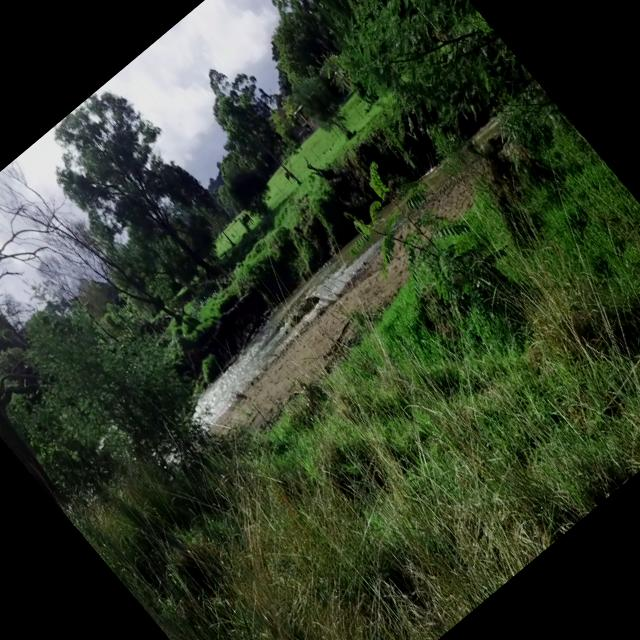Mysore-Thorn-Weed: (307, 134, 524, 362)
